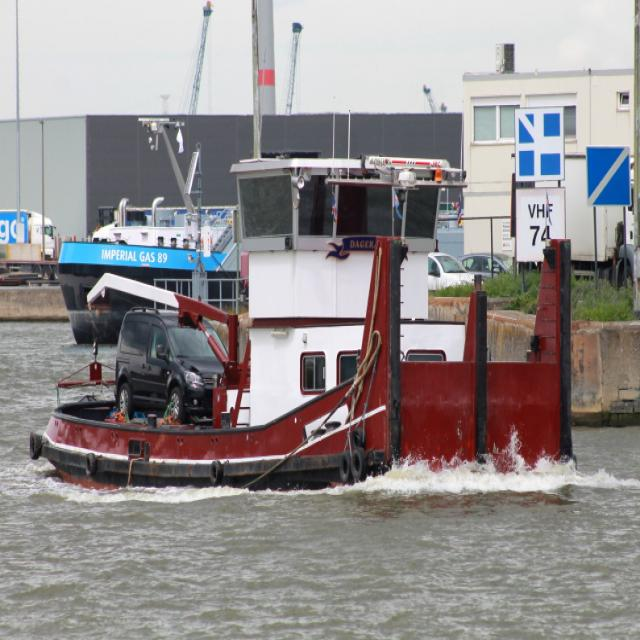tugboat: (28, 152, 583, 509)
